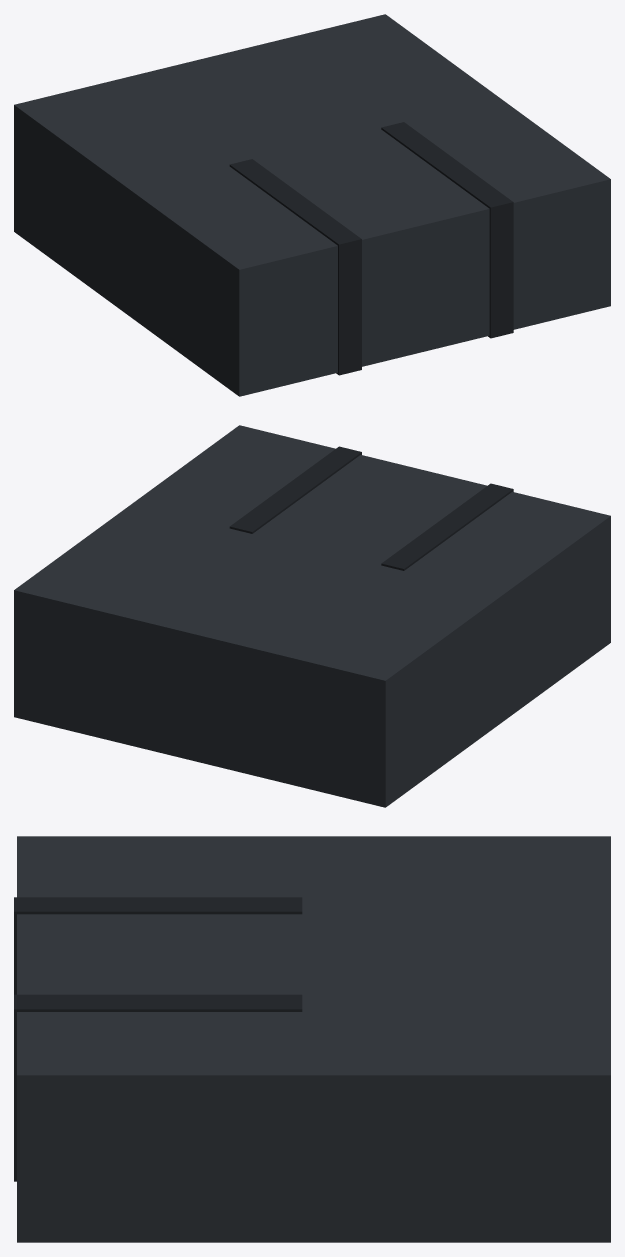
Rendered from pc_assault_hand.fbx.
3 renders of one model, top to bottom at view 1: azimuth 30°, elevation 25°; view 2: azimuth 150°, elevation 25°; view 3: azimuth 270°, elevation 25°, orthographic. The views are drawn at different scales.
Parts seen in each view (by area): view 1: pc_assault_hand; view 2: pc_assault_hand; view 3: pc_assault_hand.
Part boxes in pixels (left/top/right/bottom): pc_assault_hand: left=14, top=14, right=610, bottom=396; pc_assault_hand: left=14, top=425, right=610, bottom=807; pc_assault_hand: left=14, top=836, right=610, bottom=1242.
Bounding box in the file's own units: 98 × 33 × 104.
